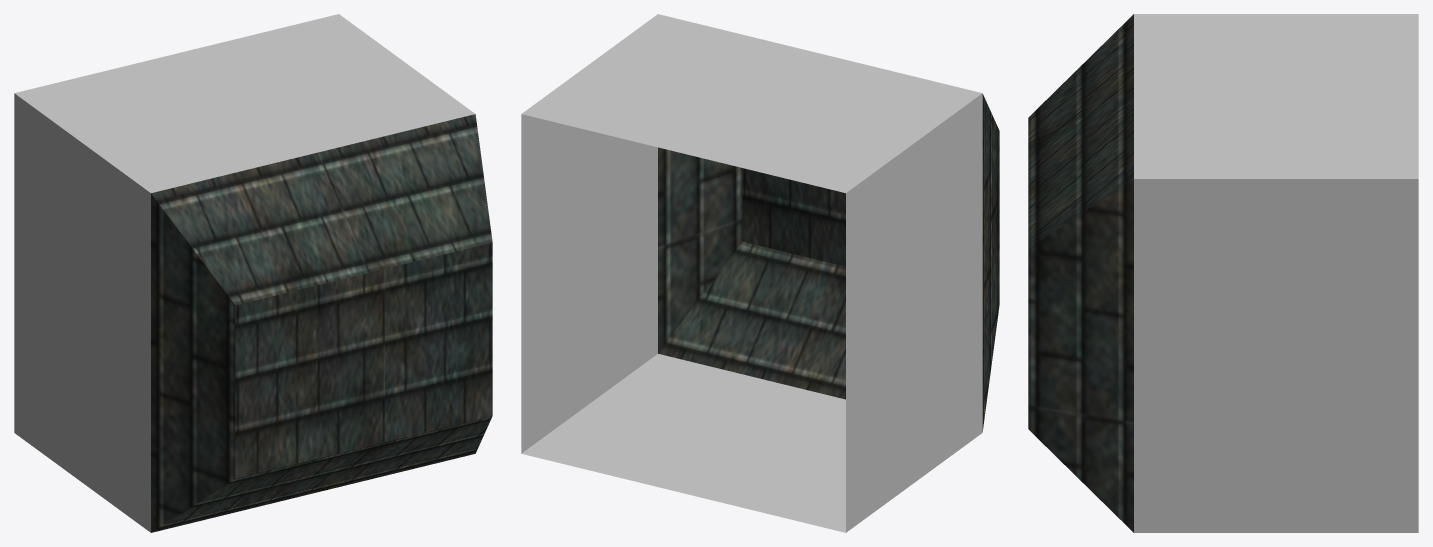
Rendered from house963x3x3_wtf.obj.
3 views of the same model, side by side, from view 1: azimuth 30°, elevation 25°; view 2: azimuth 150°, elevation 25°; view 3: azimuth 270°, elevation 25° (orthographic). The views are drawn at different scales.
Parts seen in each view (by area): view 1: group3, group4; view 2: group4, group3; view 3: group4, group3.
Part boxes in pixels (x1=…): group3: x1=151, y1=114, x2=492, y2=532; group4: x1=14, y1=14, x2=474, y2=532; group4: x1=521, y1=14, x2=982, y2=532; group3: x1=658, y1=94, x2=999, y2=431; group4: x1=1134, y1=14, x2=1418, y2=532; group3: x1=1028, y1=14, x2=1133, y2=532.
Bounding box in the file's own units: 660 × 660 × 660.
